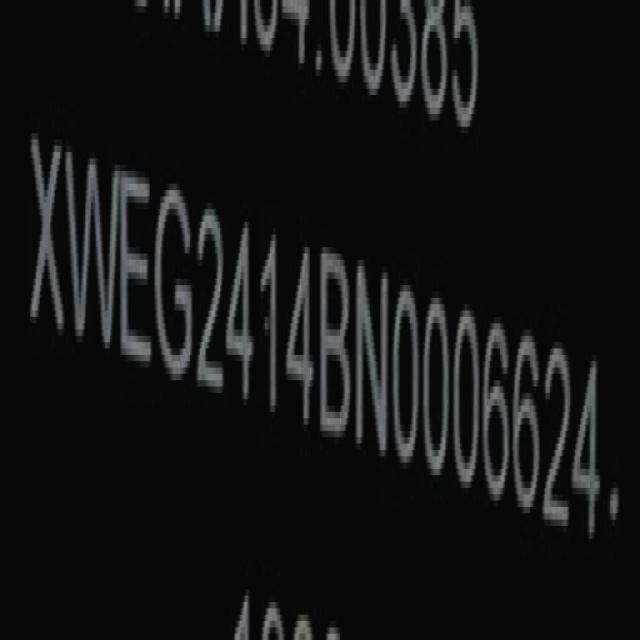0: (394, 272, 423, 472), (423, 290, 450, 488), (454, 300, 481, 489)
1: (260, 221, 280, 424)
2: (543, 342, 575, 537), (197, 197, 227, 403)
4: (287, 231, 318, 438), (572, 353, 604, 546), (226, 210, 255, 413)
6: (512, 324, 542, 522), (484, 319, 509, 516)
B: (320, 240, 352, 450)
E: (120, 162, 156, 380)
G: (154, 171, 194, 388)
N: (357, 256, 394, 470)
W: (69, 136, 120, 367)
X: (29, 124, 67, 354)
